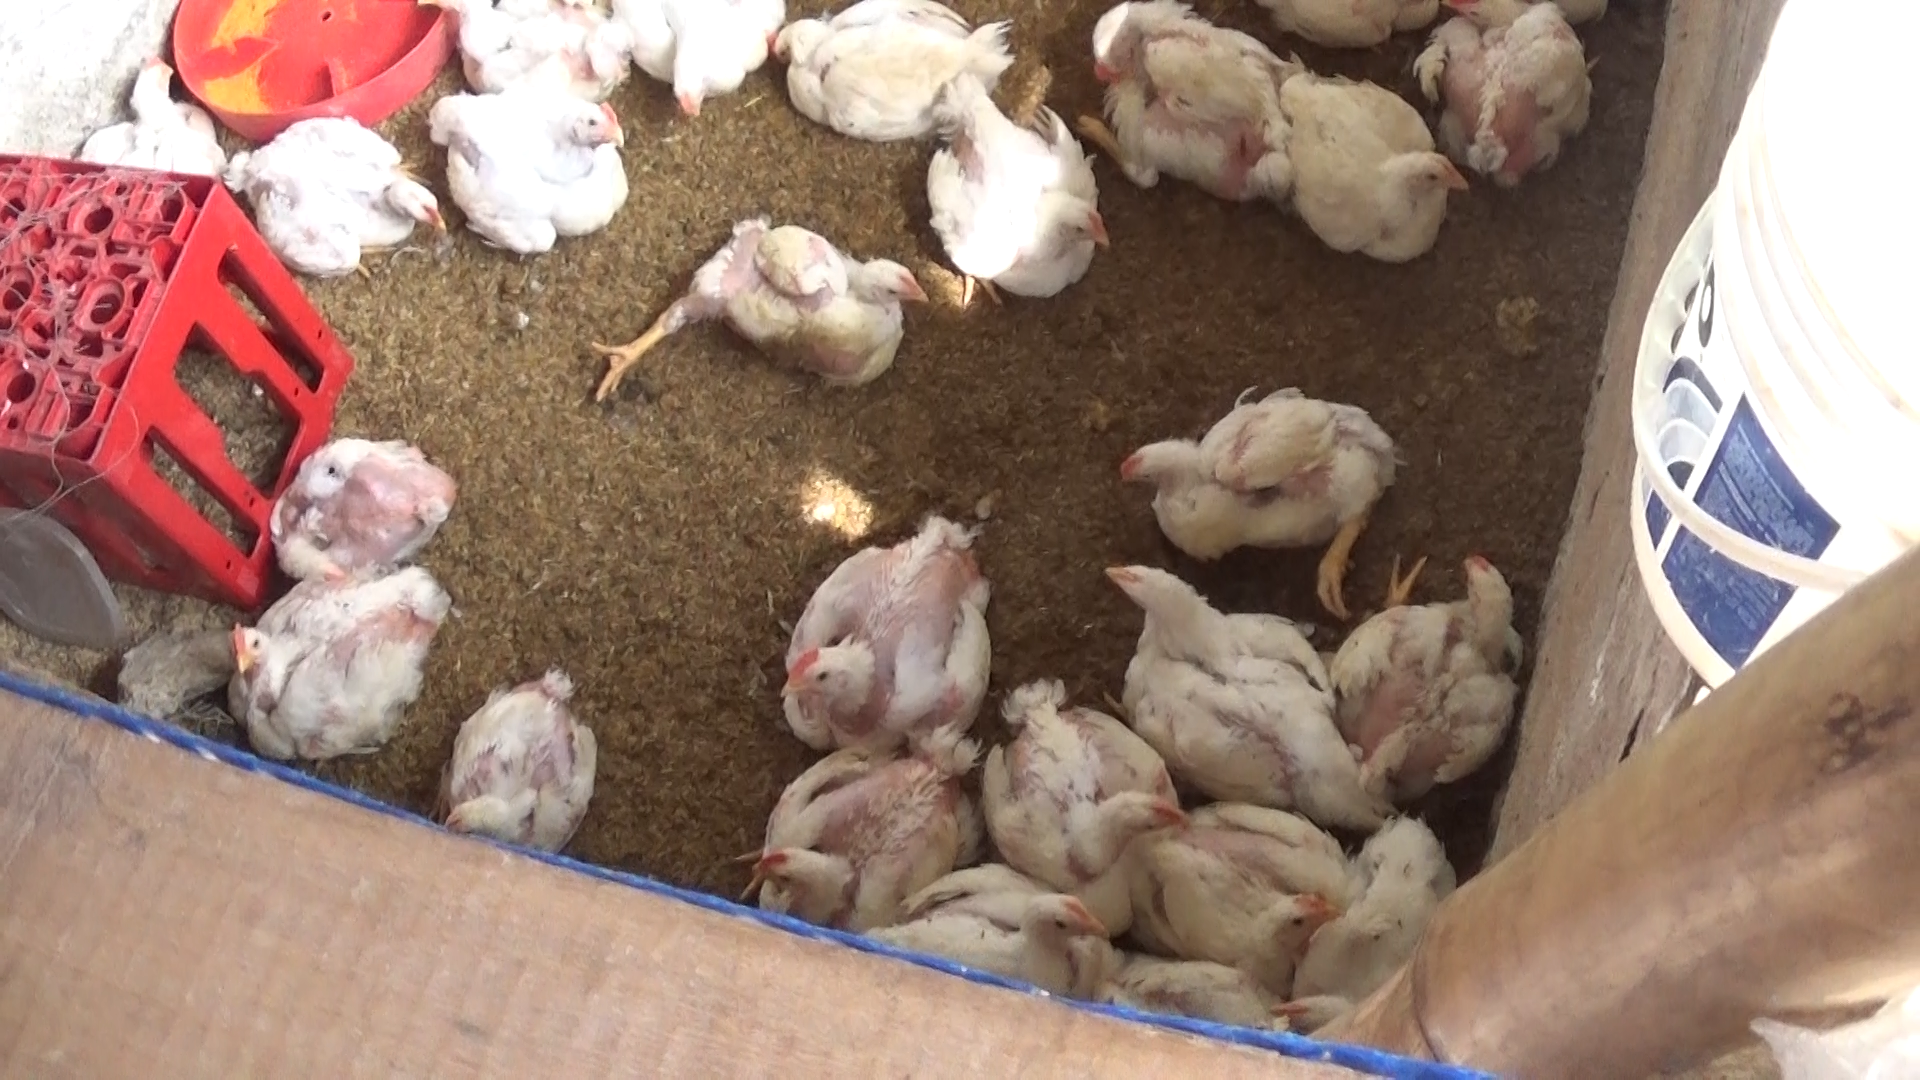Pollos: (1077, 549, 1391, 823), (587, 207, 942, 404), (1105, 386, 1408, 608), (766, 504, 994, 773), (723, 721, 994, 923), (1320, 542, 1526, 800), (911, 65, 1114, 314), (218, 558, 458, 766), (1083, 7, 1294, 216), (426, 69, 641, 273), (953, 688, 1185, 876), (1276, 67, 1481, 277), (847, 848, 1110, 1002), (764, 0, 1015, 153), (231, 123, 462, 286), (1127, 787, 1341, 961), (1422, 0, 1590, 200), (261, 431, 462, 585), (440, 665, 603, 847), (578, 0, 779, 128), (73, 55, 233, 178)
